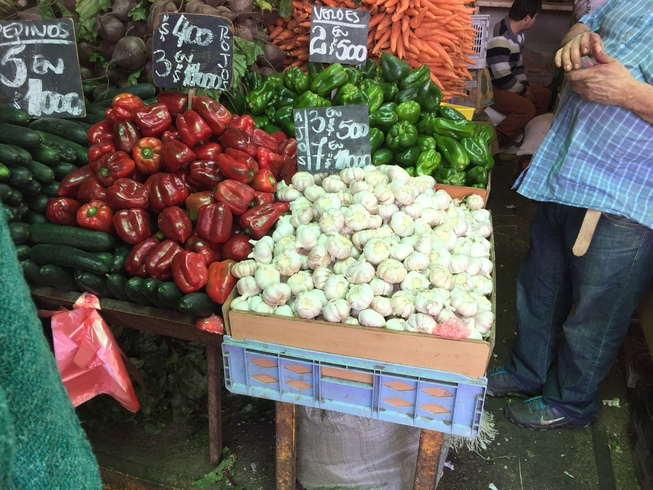precio: (1, 18, 84, 114), (152, 11, 232, 98), (293, 109, 375, 176), (307, 6, 372, 68)
